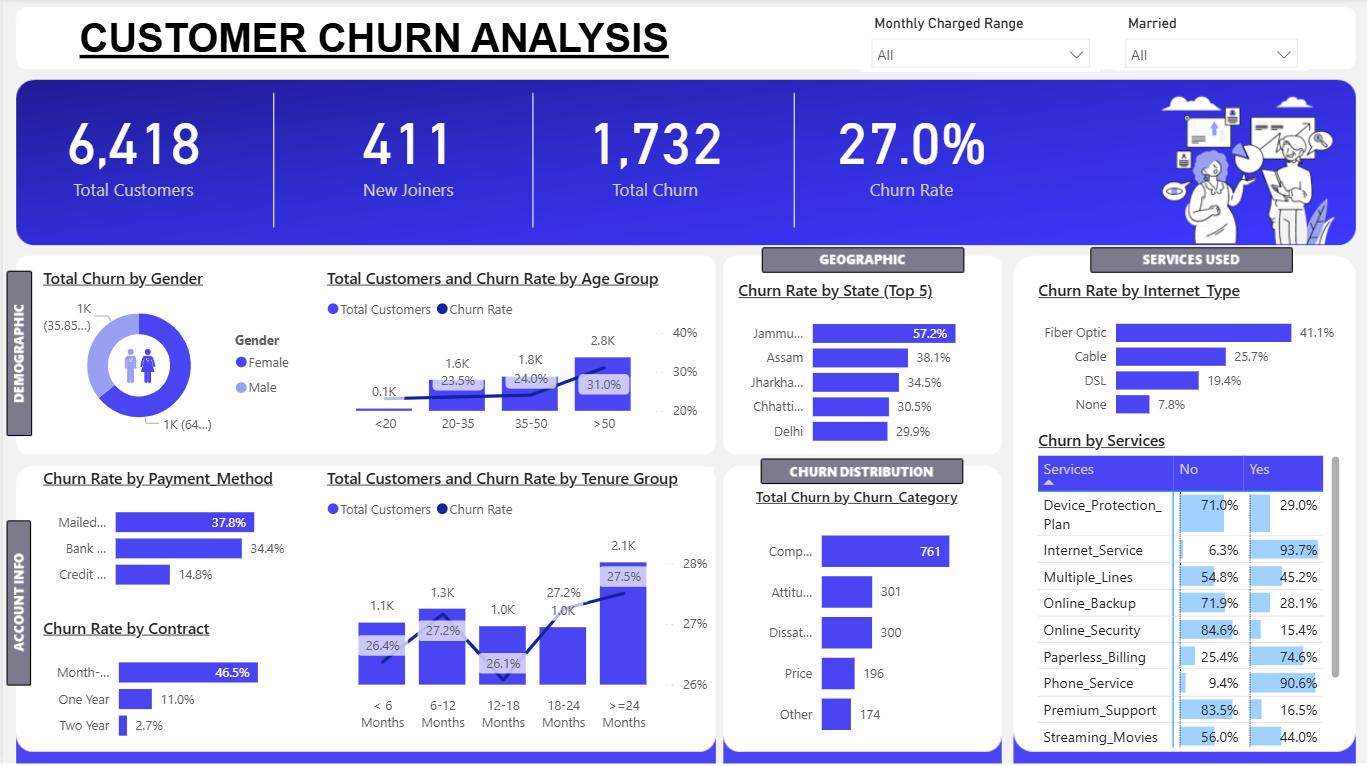

The page's visual inventory and layout, read from the dashboard file:
{"tool":"powerbi","page":{"name":"Summary","canvas":[1280,720],"ordinal":0},"visuals":[{"type":"card","fields":{"Values":["Tbl_Dummy.Total Customers"]},"box":[46.9,69.1,151.2,143],"z":0},{"type":"card","fields":{"Values":["Tbl_Dummy.New Joiners"]},"box":[283.6,69.1,193.4,143],"z":1000},{"type":"card","fields":{"Values":["Tbl_Dummy.Total Churn"]},"box":[522.7,69.1,178.1,143],"z":2000},{"type":"card","fields":{"Values":["Tbl_Dummy.Churn Rate"]},"box":[762.9,69.1,178.1,143],"z":3000},{"type":"donutChart","fields":{"Category":["prod_Churn.Gender"],"Y":["Tbl_Dummy.Total Churn"]},"box":[32.8,252,250.8,165.2],"z":4000},{"type":"lineStackedColumnComboChart","fields":{"Category":["mapping_AgeGroup.Age Group"],"Y":["Tbl_Dummy.Total Customers"],"Y2":["Tbl_Dummy.Churn Rate"]},"box":[298.8,252,357.4,165.2],"z":5000},{"type":"clusteredBarChart","fields":{"Category":["prod_Churn.Payment_Method"],"Y":["Tbl_Dummy.Churn Rate"]},"box":[32.8,439.5,241.4,126.6],"z":6000},{"type":"clusteredBarChart","fields":{"Category":["prod_Churn.Contract"],"Y":["Tbl_Dummy.Churn Rate"]},"box":[32.8,580.1,250.8,127.7],"z":7000},{"type":"lineStackedColumnComboChart","fields":{"Category":["mapping_TenureGrp.Tenure Group"],"Y":["Tbl_Dummy.Total Customers"],"Y2":["Tbl_Dummy.Churn Rate"]},"box":[298.8,439.5,366.8,255.5],"z":8000},{"type":"clusteredBarChart","title":"Churn Rate by State (Top 5)","fields":{"Category":["prod_Churn.State"],"Y":["Tbl_Dummy.Churn Rate"]},"box":[684.4,263.7,247.3,166.4],"z":9000},{"type":"clusteredBarChart","fields":{"Y":["Tbl_Dummy.Total Churn"],"Category":["prod_Churn.Churn_Category"]},"box":[700.8,458.2,215.6,249.6],"z":10000},{"type":"clusteredBarChart","fields":{"Category":["prod_Churn.Internet_Type"],"Y":["Tbl_Dummy.Churn Rate"]},"box":[965.6,263.7,293,140.6],"z":11000},{"type":"pivotTable","title":"Churn by Services","fields":{"Rows":["prod_services.Services"],"Columns":["prod_services.Status"],"Values":["Sum(prod_services.Churn Status)"]},"box":[965.6,404.3,293,303.5],"z":12000},{"type":"slicer","fields":{"Values":["prod_services.Monthly Charged Status "]},"box":[803.9,11.7,225,57.4],"z":13000},{"type":"image","box":[90.2,318.8,76.2,51.6],"z":14000},{"type":"slicer","fields":{"Values":["prod_Churn.Married"]},"box":[1041.8,11.7,181.6,56.3],"z":15000},{"type":"textbox","box":[66.8,11.7,573.1,66.8],"z":16000}]}

Visuals, with their boxes in screenshot pixels (x1, y1, x2, y2), scaled from the page's 1280x720 canvas onto the 1367x766 screenshot:
card - Tbl_Dummy.Total Customers: l=50, t=74, r=212, b=226
card - Tbl_Dummy.New Joiners: l=303, t=74, r=509, b=226
card - Tbl_Dummy.Total Churn: l=558, t=74, r=748, b=226
card - Tbl_Dummy.Churn Rate: l=815, t=74, r=1005, b=226
donutChart - prod_Churn.Gender x Tbl_Dummy.Total Churn: l=35, t=268, r=303, b=444
lineStackedColumnComboChart - mapping_AgeGroup.Age Group x Tbl_Dummy.Total Customers: l=319, t=268, r=701, b=444
clusteredBarChart - prod_Churn.Payment_Method x Tbl_Dummy.Churn Rate: l=35, t=468, r=293, b=602
clusteredBarChart - prod_Churn.Contract x Tbl_Dummy.Churn Rate: l=35, t=617, r=303, b=753
lineStackedColumnComboChart - mapping_TenureGrp.Tenure Group x Tbl_Dummy.Total Customers: l=319, t=468, r=711, b=739
"Churn Rate by State (Top 5)" clusteredBarChart: l=731, t=281, r=995, b=458
clusteredBarChart - Tbl_Dummy.Total Churn x prod_Churn.Churn_Category: l=748, t=487, r=979, b=753
clusteredBarChart - prod_Churn.Internet_Type x Tbl_Dummy.Churn Rate: l=1031, t=281, r=1344, b=430
"Churn by Services" pivotTable: l=1031, t=430, r=1344, b=753
slicer - prod_services.Monthly Charged Status : l=859, t=12, r=1099, b=74
image: l=96, t=339, r=178, b=394
slicer - prod_Churn.Married: l=1113, t=12, r=1307, b=72
textbox: l=71, t=12, r=683, b=84
